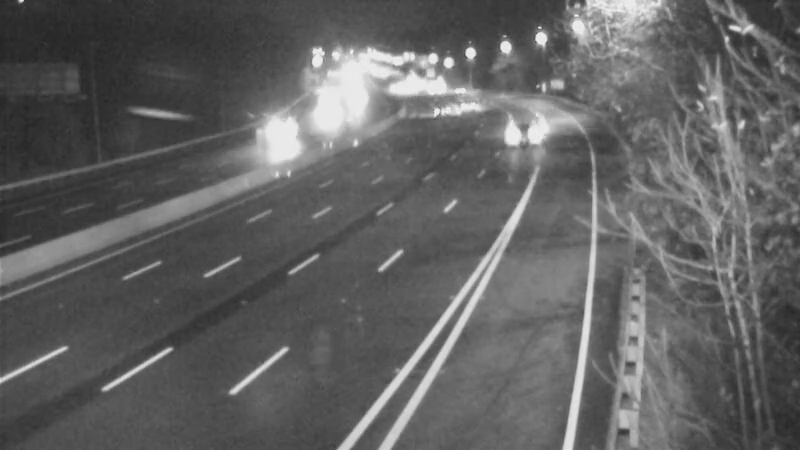vehicle: (434, 81, 484, 131), (413, 85, 463, 135), (490, 107, 540, 157), (250, 103, 300, 153)
